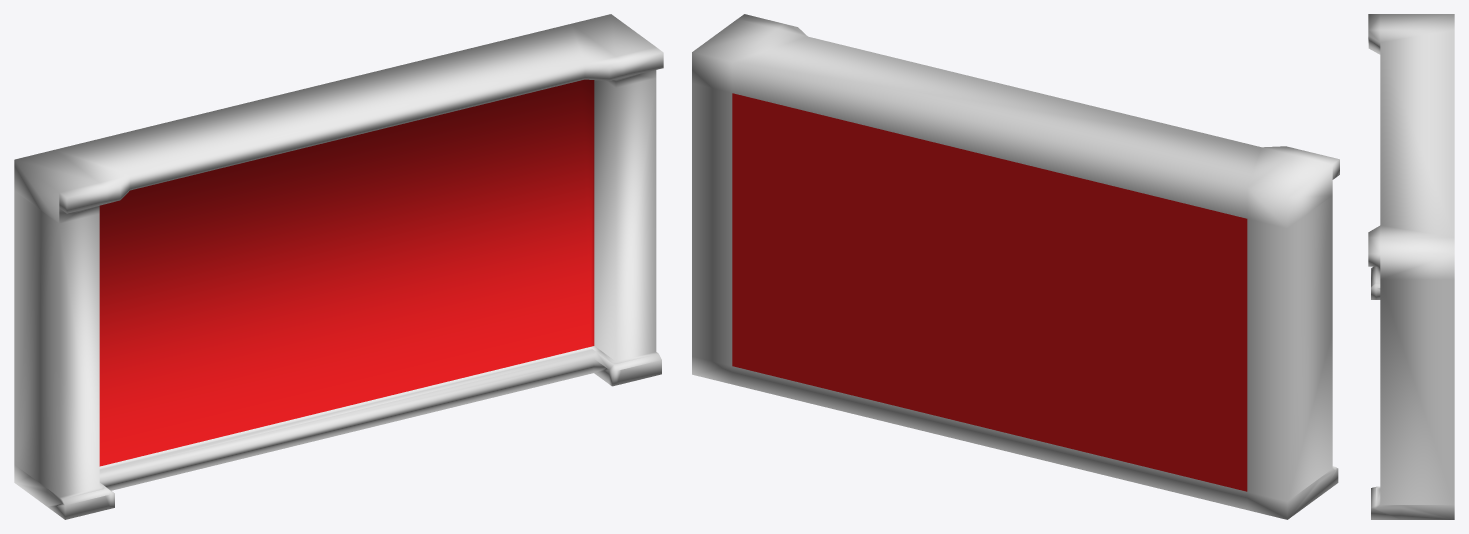
The model's file is Wall Flat Top.fbx.
The picture shows the model from 3 angles, left to right: view 1: azimuth 30°, elevation 25°; view 2: azimuth 150°, elevation 25°; view 3: azimuth 270°, elevation 25°; orthographic projection. The views are drawn at different scales.
Parts seen in each view (by area): view 1: Wall flat top.001; view 2: Wall flat top.001; view 3: Wall flat top.001.
Part boxes in pixels (x1=…): Wall flat top.001: x1=14, y1=14, x2=663, y2=519; Wall flat top.001: x1=692, y1=14, x2=1339, y2=519; Wall flat top.001: x1=1368, y1=14, x2=1454, y2=519.
Bounding box in the file's own units: 552 × 286 × 84.02.
